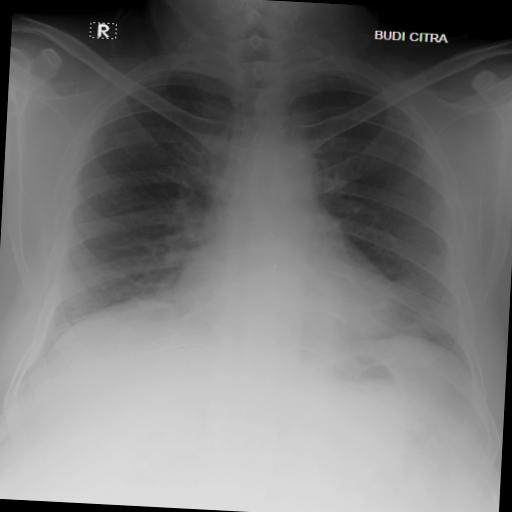kardiomegali: (19, 26, 512, 421)
